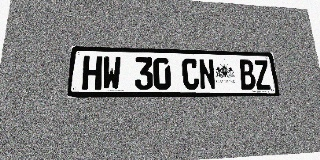0: (153, 57, 171, 90)
3: (135, 57, 153, 90)
B: (238, 60, 257, 90)
C: (182, 58, 200, 90)
H: (82, 56, 102, 90)
N: (198, 59, 216, 90)
W: (102, 56, 121, 90)
Z: (253, 60, 271, 90)
